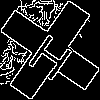H: (25, 25, 81, 83)
